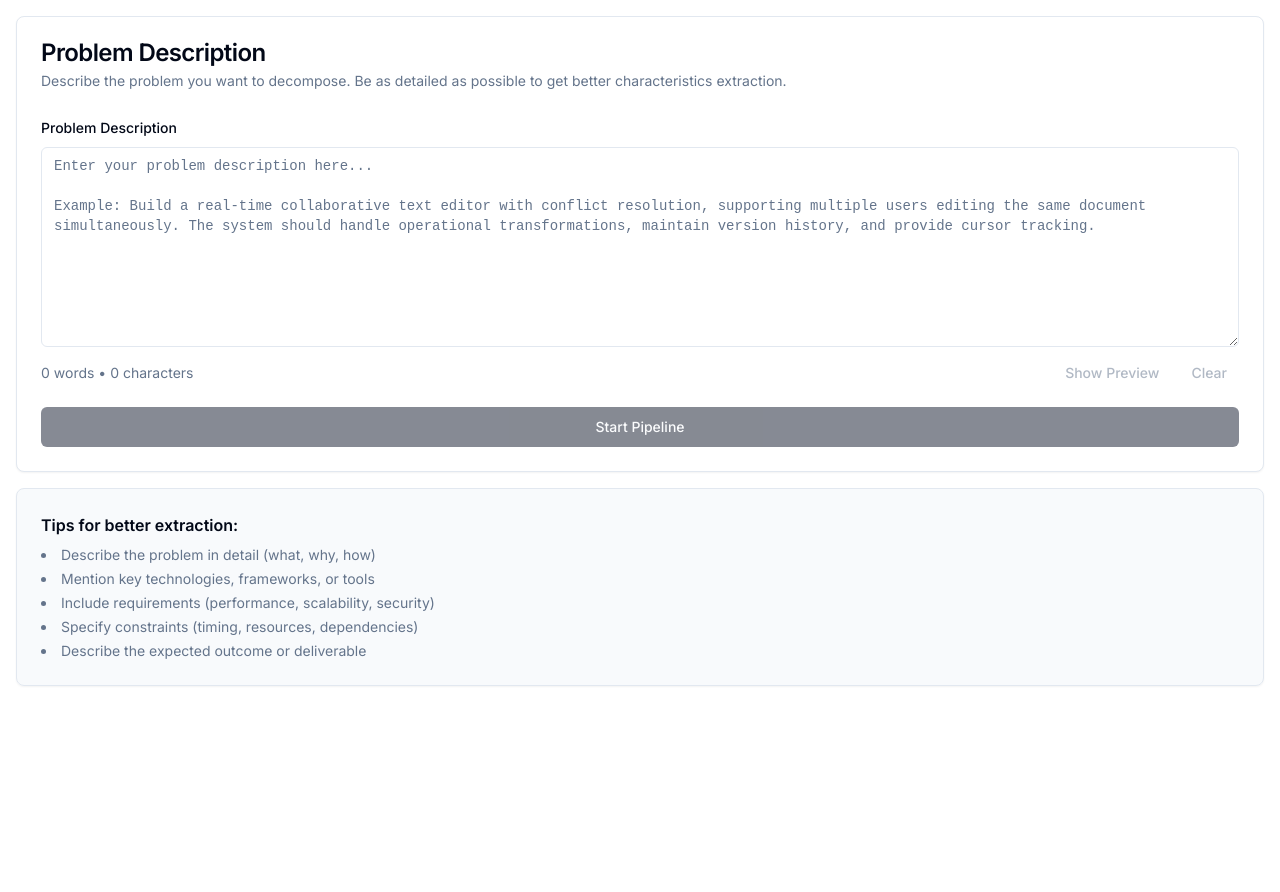
Test: ProblemInputDisplay › Submit Functionality › should enable submit button after characteristics are extracted
The image size is (1280, 892).
Replace the text in the text box named "Problem description input" with "Build a real-time system" at [640, 247], box [41,147,1239,347]
Wait 500 ms
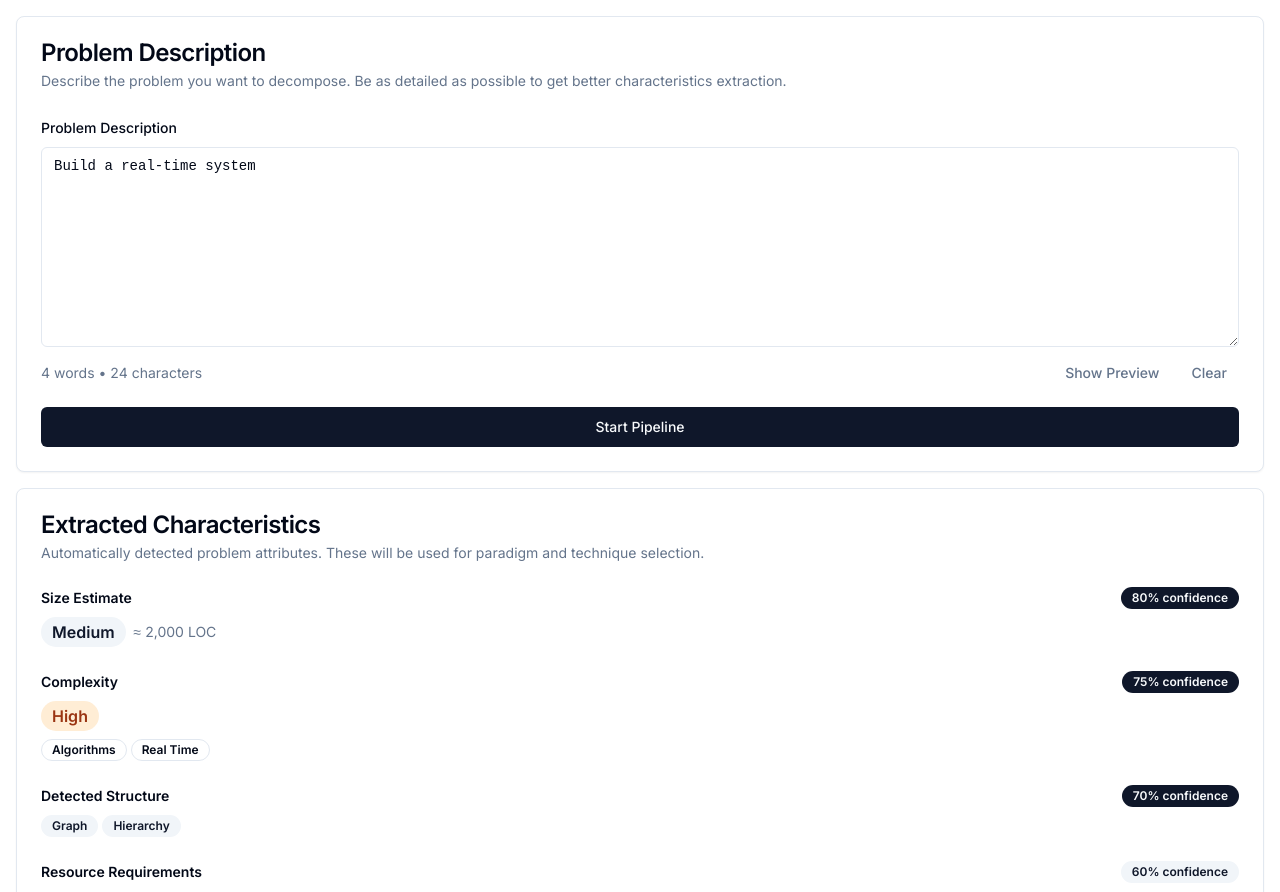
Expected: the button "Start Pipeline" is enabled, [41,407,1239,447]
